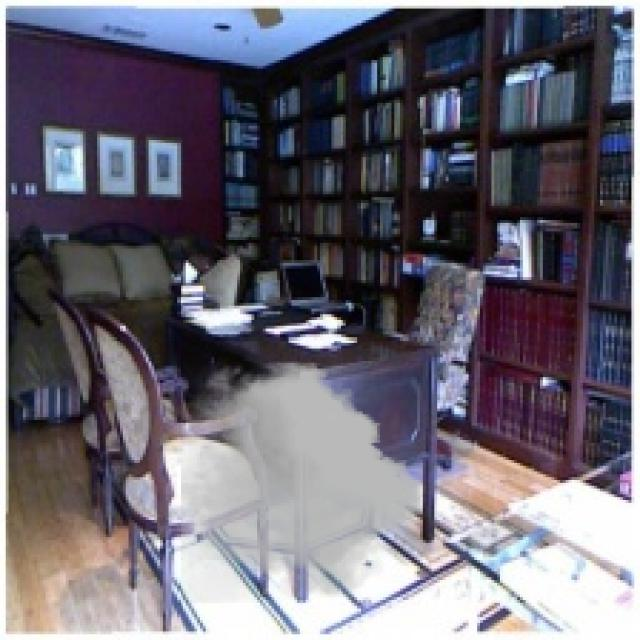smoke: (180, 357, 423, 603)
